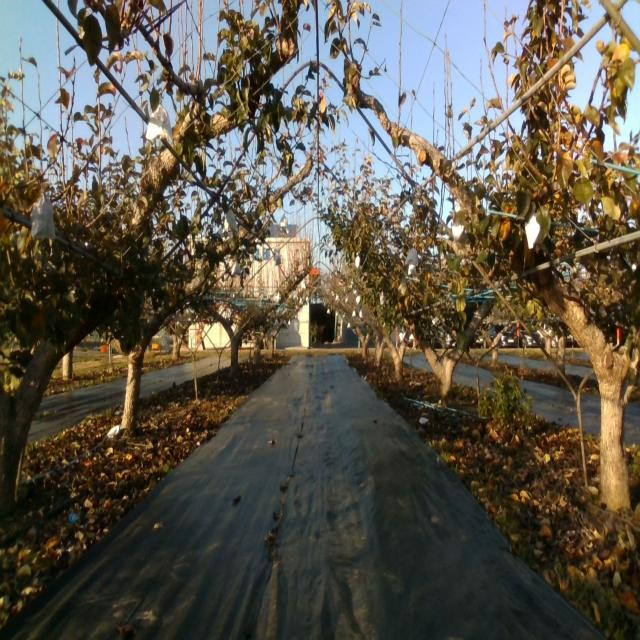pearbags: (30, 190, 56, 241), (145, 101, 174, 145), (525, 212, 542, 250), (223, 210, 239, 234), (451, 218, 464, 242), (279, 208, 289, 230)
